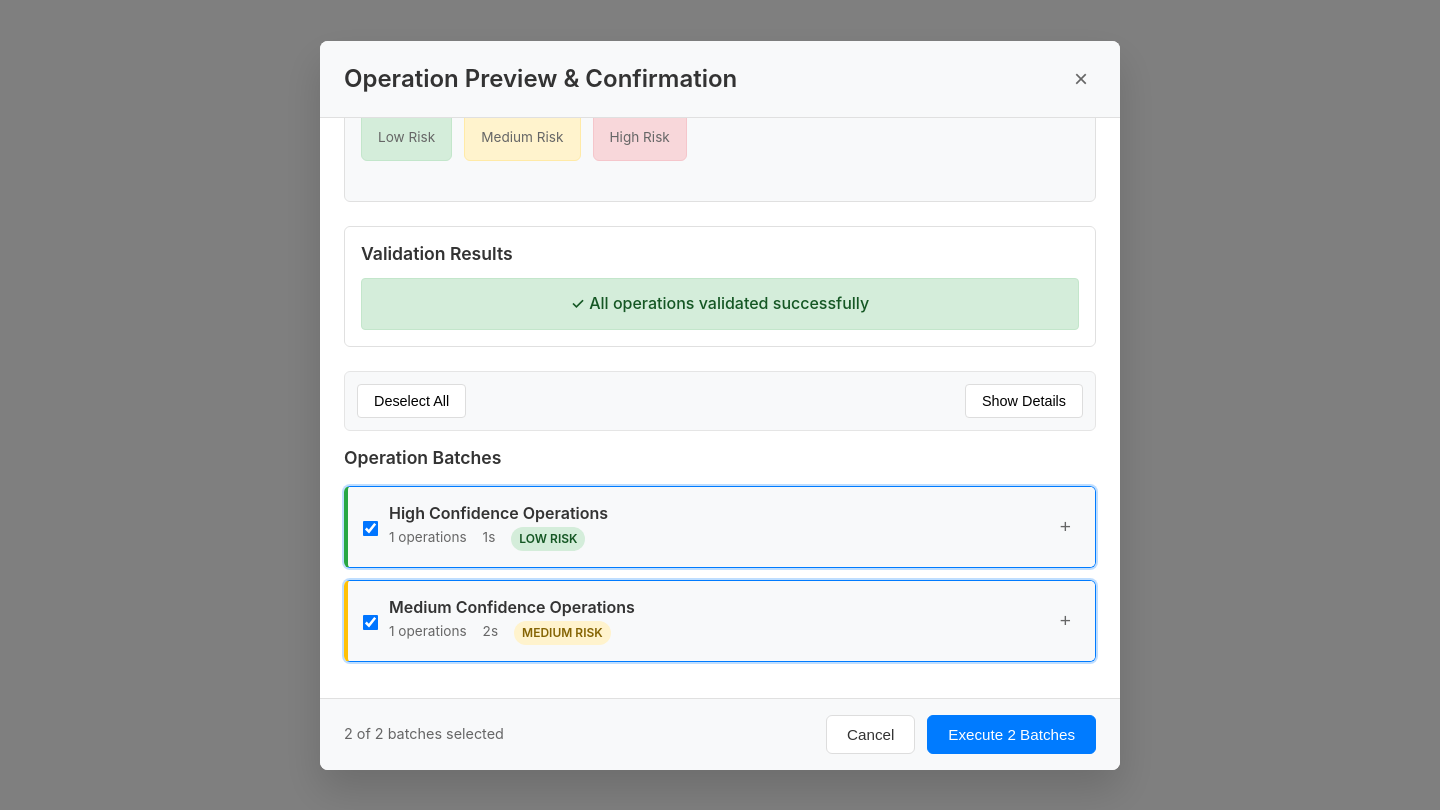
Test: OperationPreviewModal › Advanced Details › should toggle advanced details
The width and height of the screenshot is (1440, 810).
(page scrolled)
Step 1. Click the button named "Expand batch" → (1065, 527), box left=1052, top=512, right=1079, bottom=542
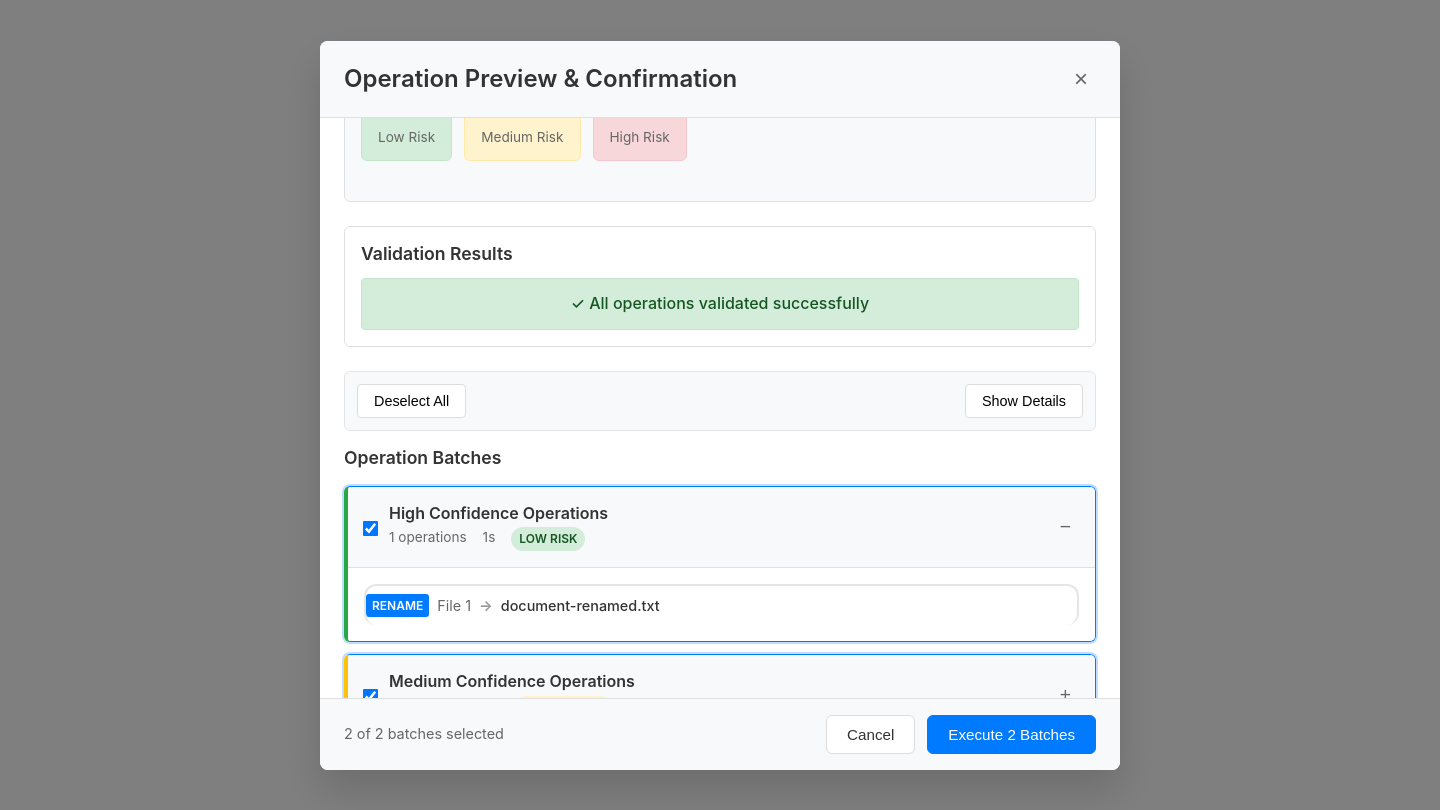
Step 2. Click the button "Show Details" → (1024, 401), box left=965, top=384, right=1083, bottom=418
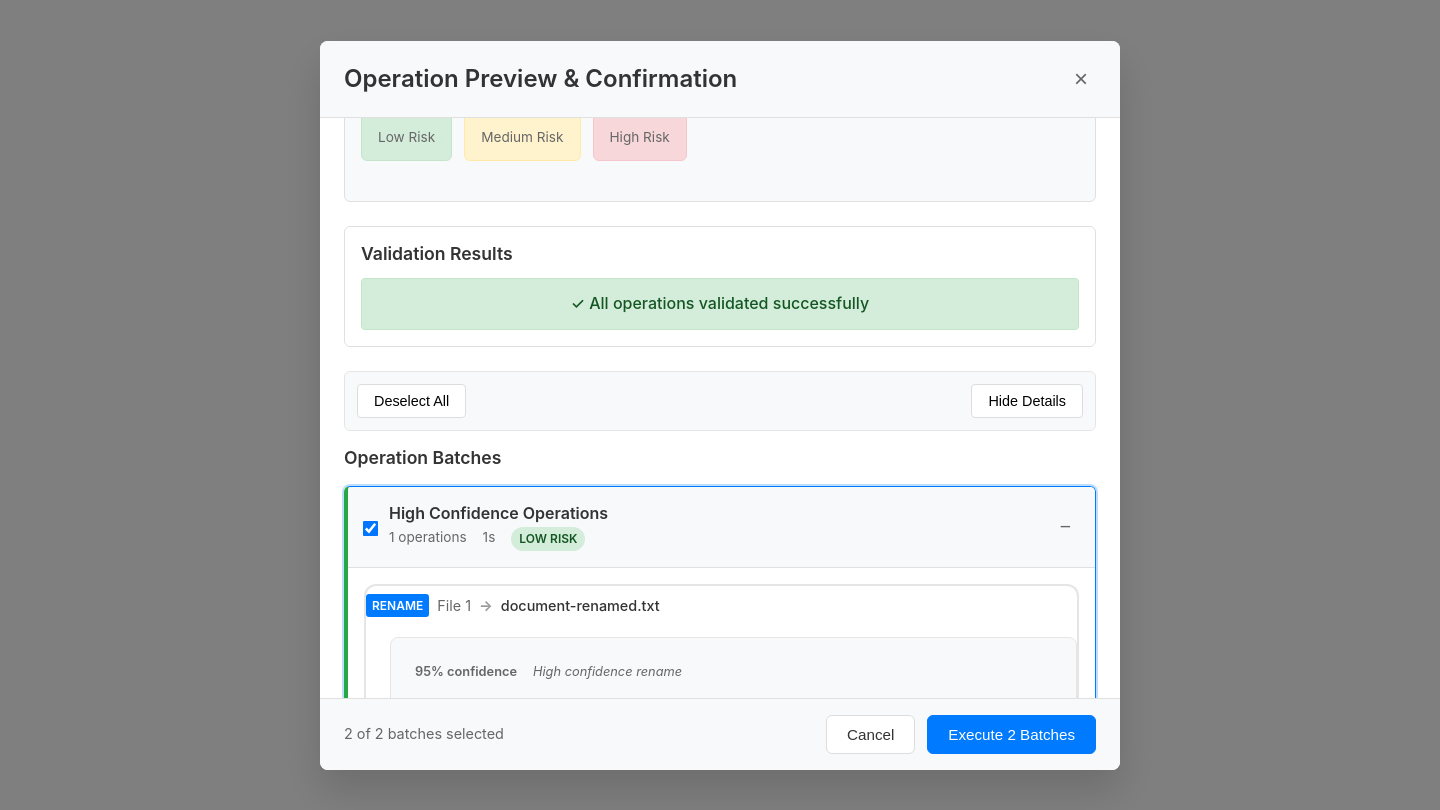
Expected: the button "Hide Details" is shown, left=971, top=384, right=1083, bottom=418
Expected: the text "95% confidence" is shown, left=415, top=662, right=517, bottom=682
Expected: the text "High confidence rename" is shown, left=533, top=662, right=682, bottom=682
